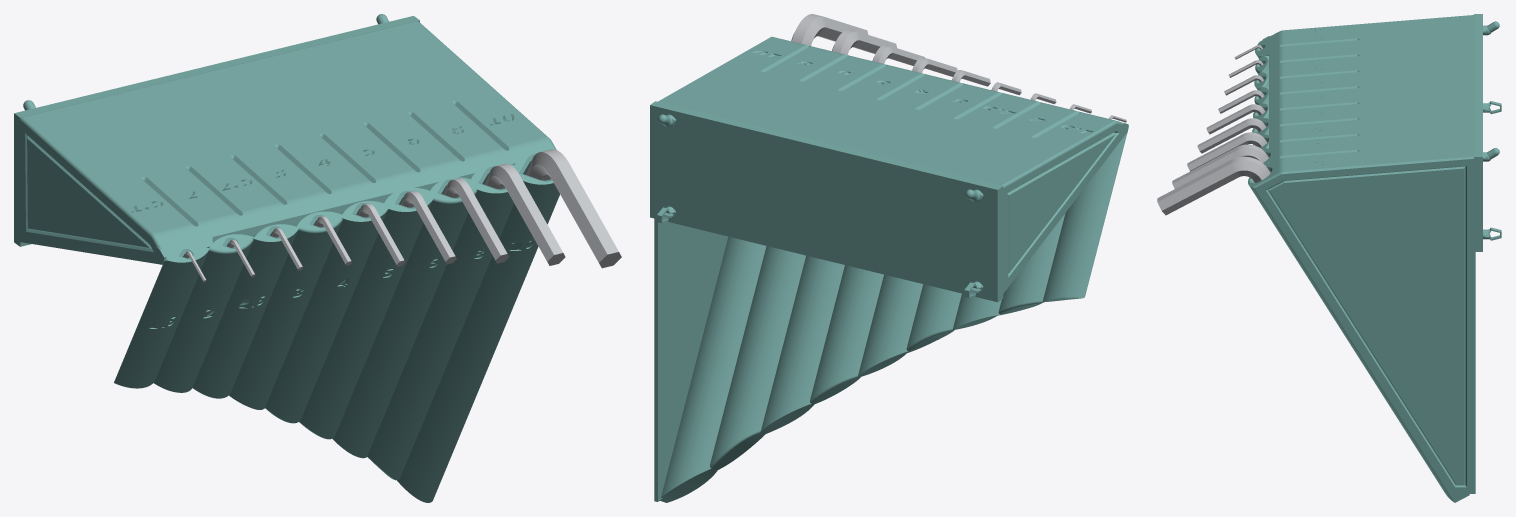
File: loaded.glb
3 views of the same model, side by side, from view 1: azimuth 30°, elevation 25°; view 2: azimuth 150°, elevation 25°; view 3: azimuth 270°, elevation 25° (orthographic). The views are drawn at different scales.
Visible parts, largest first — view 1: holder, reference_envelope; view 2: holder, reference_envelope; view 3: holder, reference_envelope.
Boxes of the visible parts, bbox=[...] form: holder: bbox=[14, 14, 559, 502]; reference_envelope: bbox=[184, 149, 621, 282]; holder: bbox=[650, 36, 1128, 502]; reference_envelope: bbox=[791, 14, 1126, 122]; holder: bbox=[1248, 14, 1501, 502]; reference_envelope: bbox=[1157, 45, 1270, 215].
Size of the model in its own units: 0.2012 by 0.227 by 0.2044.
